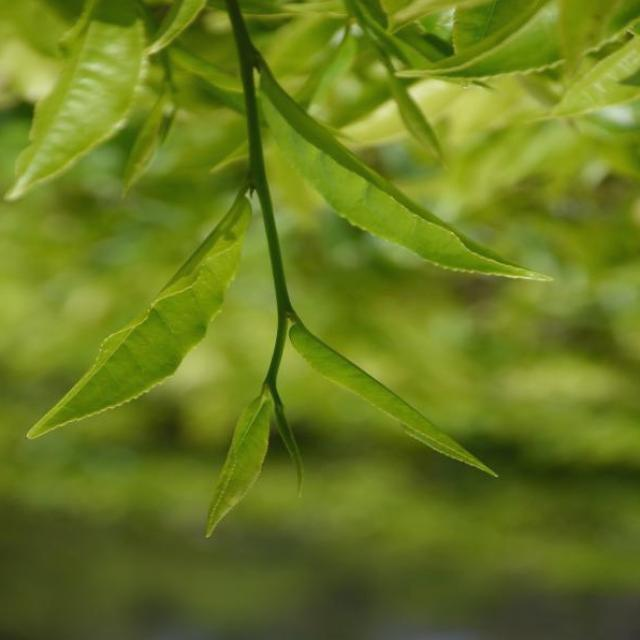Stem: (269, 368, 276, 381)
